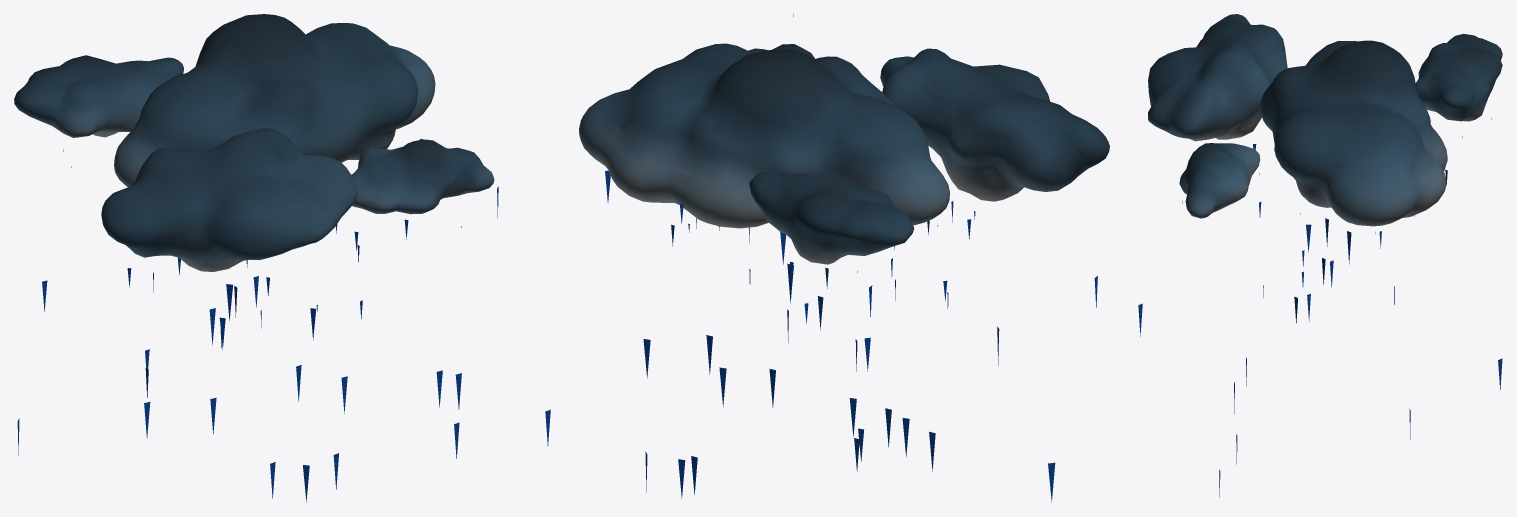
Rendered from rain_1.obj.
3 views of the same model, side by side, from view 1: azimuth 30°, elevation 25°; view 2: azimuth 150°, elevation 25°; view 3: azimuth 270°, elevation 25° (orthographic). The views are drawn at different scales.
Parts seen in each view (by area): view 1: cloud_104_Material_0_0, cloud_102_Material_0_0, cloud_101_Material_0_0, cloud_103_Material_0_0; view 2: cloud_104_Material_0_0, cloud_102_Material_0_0, cloud_101_Material_0_0; view 3: cloud_104_Material_0_0, cloud_102_Material_0_0, cloud_101_Material_0_0, cloud_103_Material_0_0.
Boxes of the visible parts, <box> form: cloud_104_Material_0_0: <box>114,14,435,187</box>; cloud_102_Material_0_0: <box>101,127,357,271</box>; cloud_101_Material_0_0: <box>14,55,183,137</box>; cloud_103_Material_0_0: <box>351,138,494,214</box>; cloud_104_Material_0_0: <box>579,43,949,228</box>; cloud_102_Material_0_0: <box>880,48,1109,201</box>; cloud_101_Material_0_0: <box>749,172,914,264</box>; cloud_104_Material_0_0: <box>1260,40,1447,226</box>; cloud_102_Material_0_0: <box>1148,14,1287,141</box>; cloud_101_Material_0_0: <box>1415,34,1502,121</box>; cloud_103_Material_0_0: <box>1179,143,1260,218</box>.
Size of the model in its own units: 655 by 567 by 510.
Materials: 3 (1 with a texture image).
